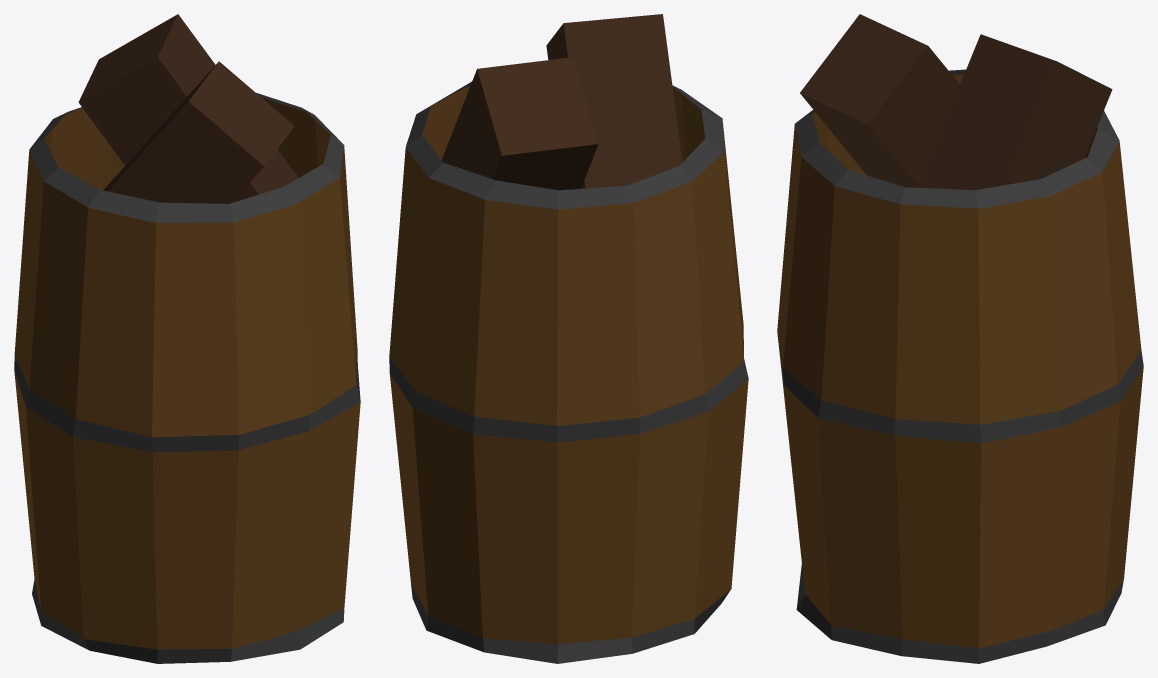
The model's file is Barrel_Opened.fbx.
The picture shows the model from 3 angles, left to right: view 1: azimuth 30°, elevation 25°; view 2: azimuth 150°, elevation 25°; view 3: azimuth 270°, elevation 25°; orthographic projection.
Visible parts, largest first — view 1: Barrel with Wood; view 2: Barrel with Wood; view 3: Barrel with Wood.
Boxes of the visible parts, x1=… form: Barrel with Wood: x1=14, y1=14, x2=360, y2=663; Barrel with Wood: x1=389, y1=14, x2=748, y2=663; Barrel with Wood: x1=777, y1=14, x2=1143, y2=663.
Size of the model in its own units: 50.97 by 86.66 by 51.8.
